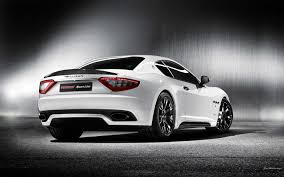car: (36, 54, 237, 140)
